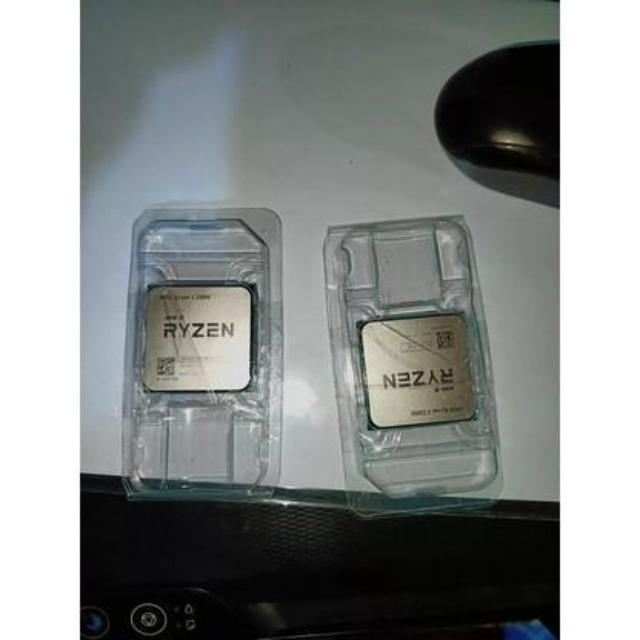CPU: (361, 310, 479, 428), (143, 280, 255, 392)
